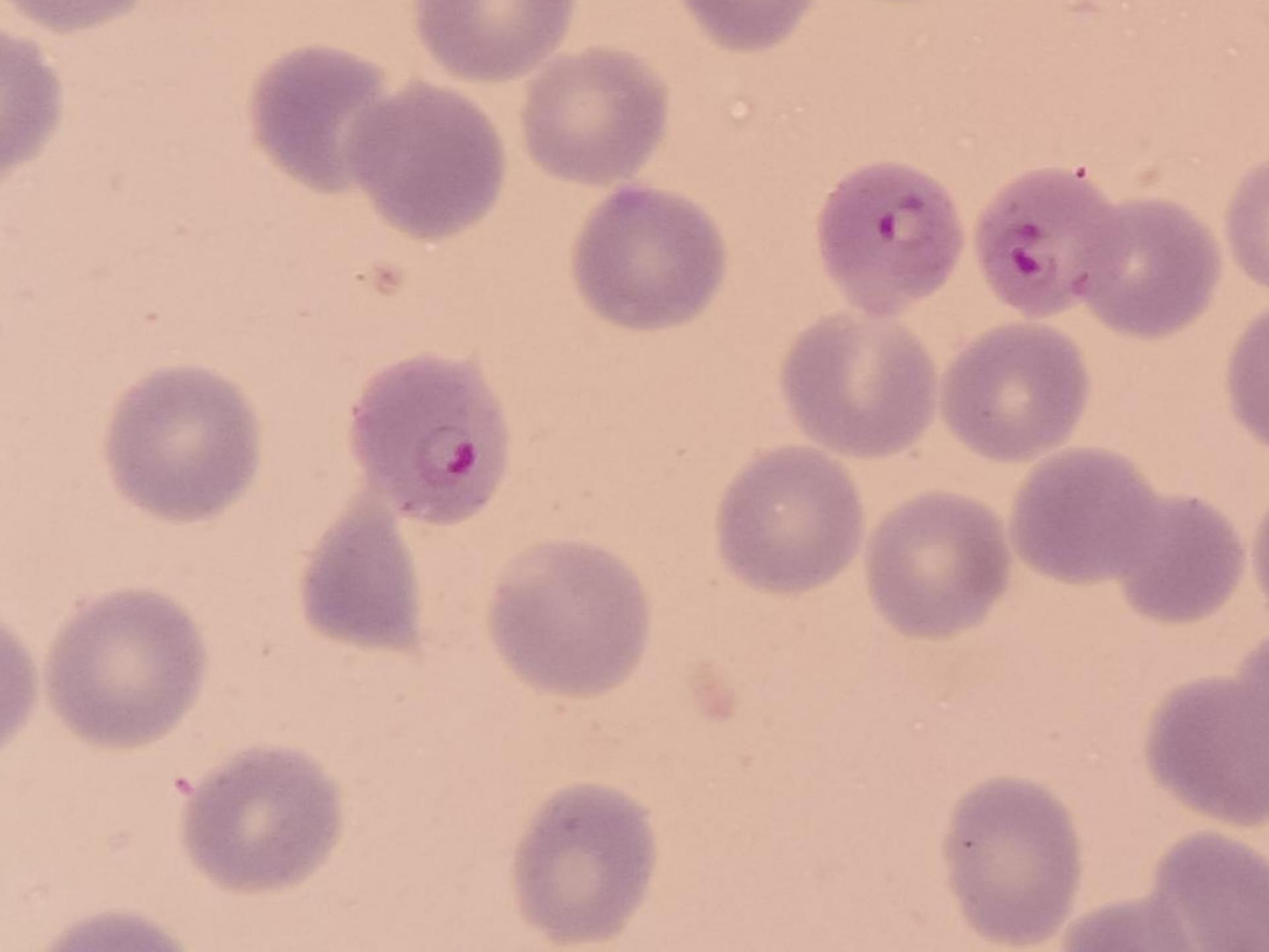Infected: (355, 355, 510, 528), (821, 165, 963, 314), (977, 172, 1115, 322)
Uninfected: (350, 80, 511, 238), (46, 588, 203, 750), (178, 745, 346, 895), (107, 364, 263, 521), (254, 48, 416, 199), (487, 542, 647, 694), (783, 308, 939, 456), (511, 785, 655, 945), (950, 773, 1087, 941), (573, 192, 732, 332), (715, 445, 860, 592), (869, 489, 1013, 636), (522, 45, 672, 184), (948, 324, 1090, 463), (1008, 450, 1153, 581), (1092, 199, 1223, 337), (299, 502, 418, 653), (1149, 673, 1269, 822), (1125, 499, 1240, 626)
